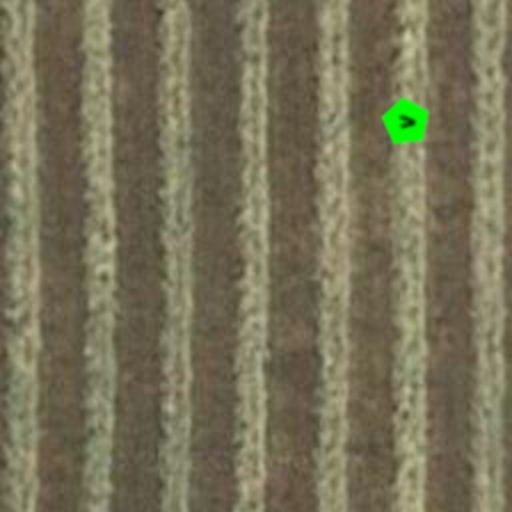pentagon: (378, 94, 434, 150)
